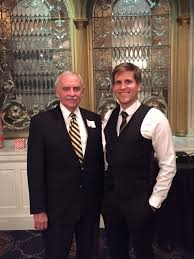F_M_suit jacket: (29, 104, 107, 232)
F_shirt: (101, 102, 182, 208)
F_tie: (66, 110, 87, 170), (116, 107, 129, 138)
